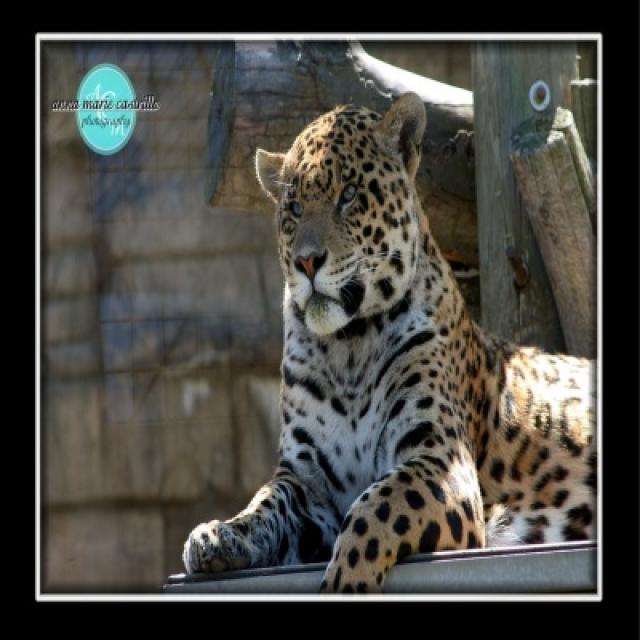Jaguar: (187, 92, 596, 592)
